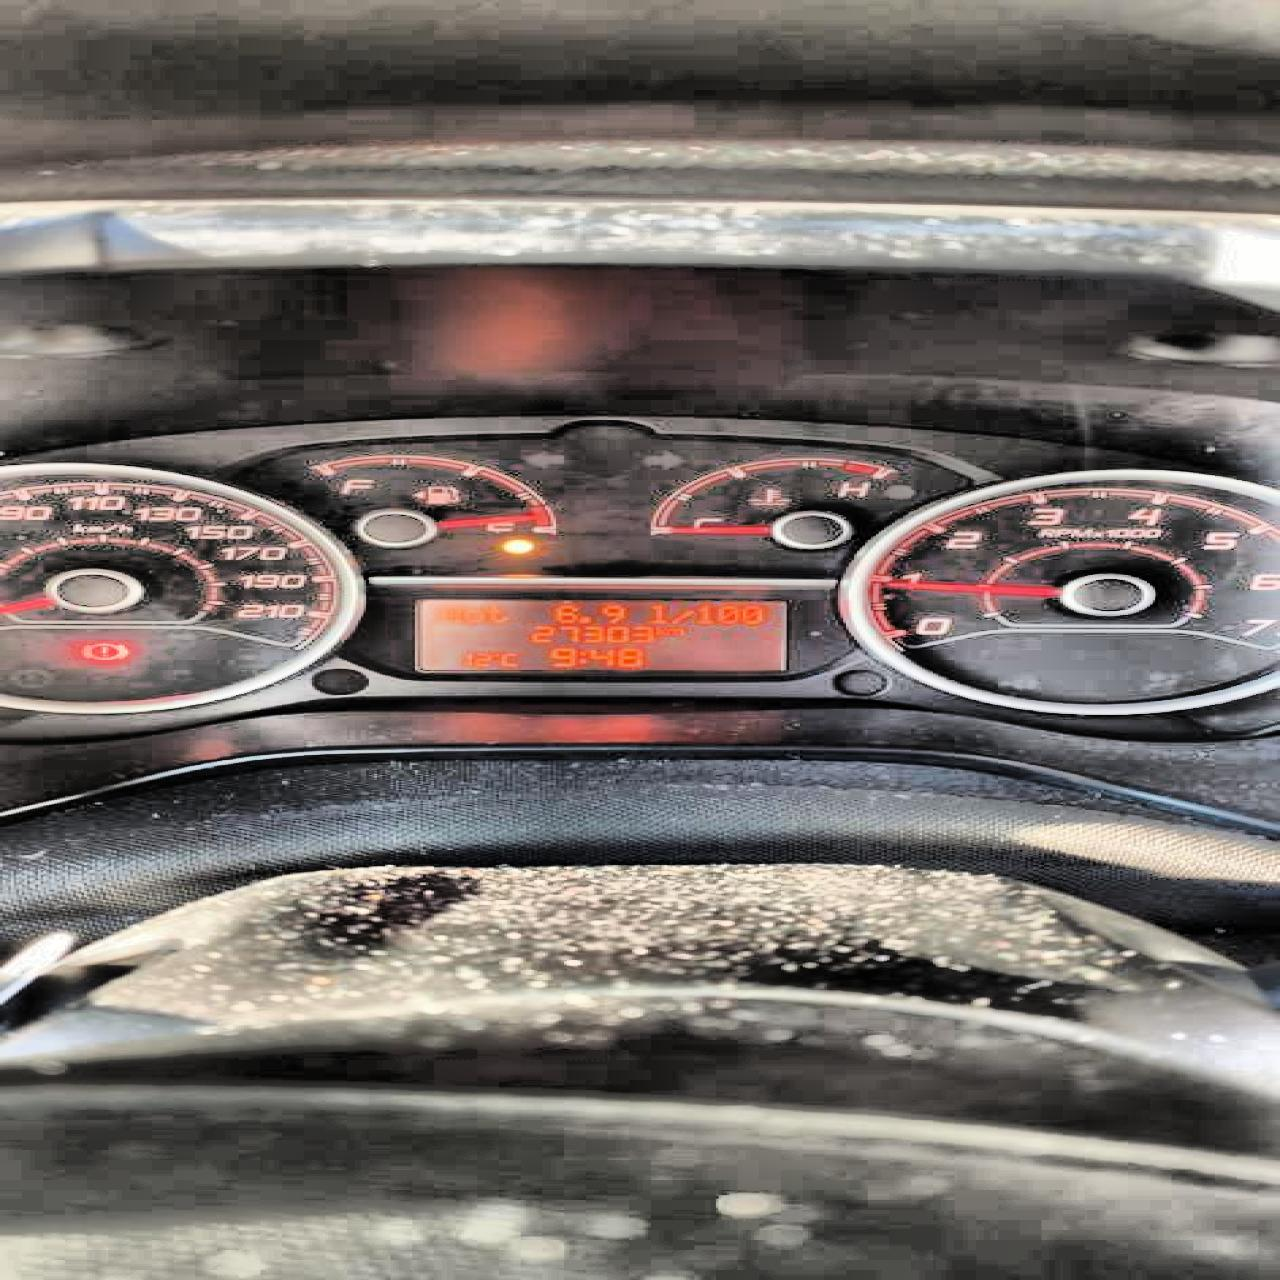-: (574, 615, 588, 624)
0: (713, 605, 737, 624), (737, 605, 762, 624), (605, 625, 626, 642)
1: (694, 604, 713, 624), (461, 651, 469, 665)
2: (526, 625, 553, 641), (472, 652, 491, 667)
3: (578, 625, 602, 642), (626, 625, 651, 642)
4: (586, 647, 613, 665)
6: (550, 602, 574, 624)
7: (557, 625, 578, 641)
8: (615, 647, 642, 667)
9: (545, 645, 576, 667), (597, 604, 626, 622)
X: (642, 602, 667, 624), (434, 604, 461, 621), (485, 602, 508, 622), (667, 608, 692, 622), (458, 608, 483, 621), (499, 652, 518, 667), (665, 627, 683, 635), (654, 625, 665, 635), (576, 651, 583, 663)
odometer: (402, 592, 795, 680)
